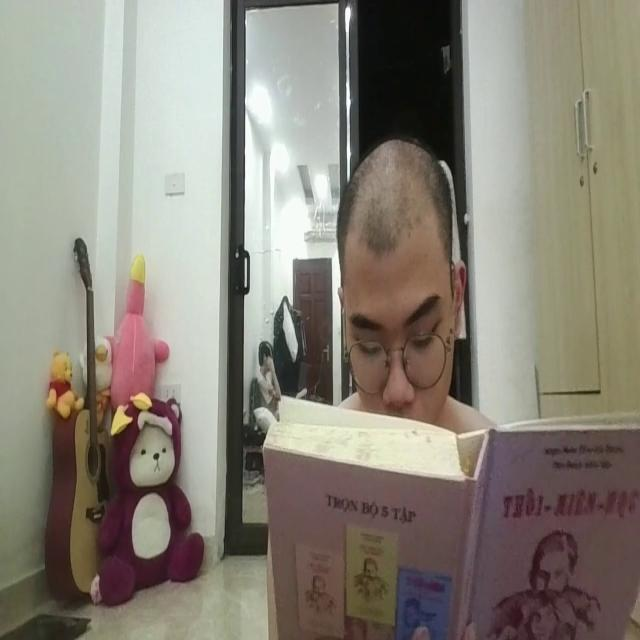book: (259, 386, 640, 640)
extra_person: (253, 329, 286, 418)
student: (338, 139, 463, 424)
